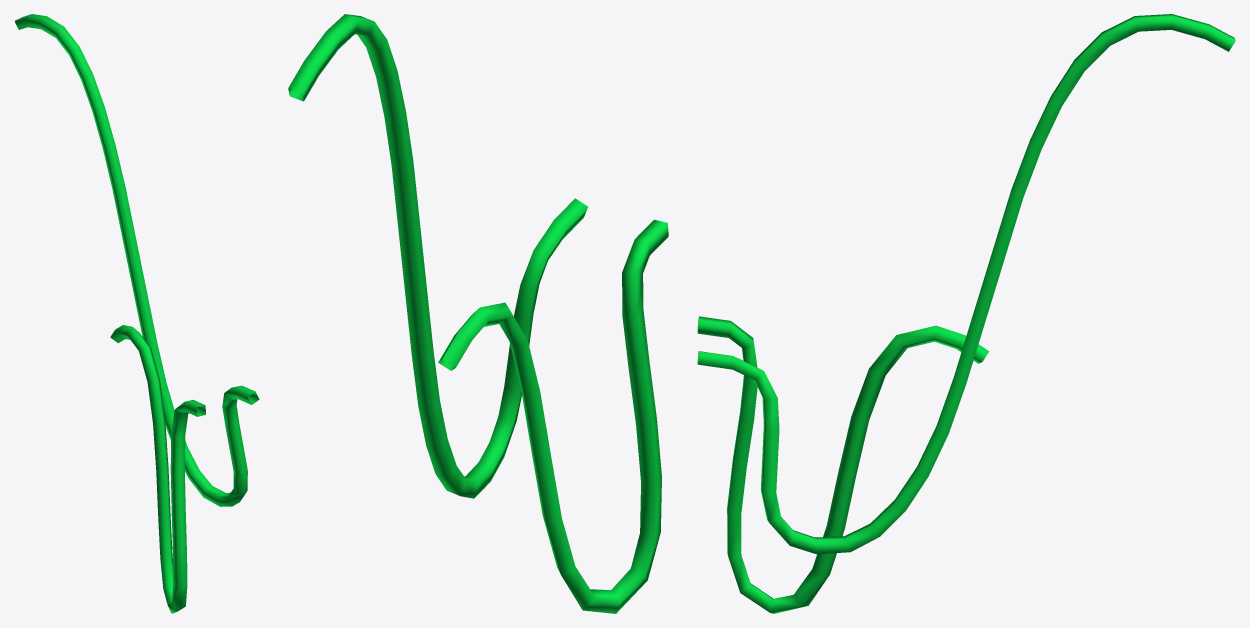
File: Earthmover_Body_WireTubeBack_01a_snaps005.fbx
The picture shows the model from 3 angles, left to right: view 1: azimuth 30°, elevation 25°; view 2: azimuth 150°, elevation 25°; view 3: azimuth 270°, elevation 25°; orthographic projection. The views are drawn at different scales.
Parts seen in each view (by area): view 1: Earthmover_Body_11a_snaps005; view 2: Earthmover_Body_11a_snaps005; view 3: Earthmover_Body_11a_snaps005.
Part boxes in pixels (box(x1,y1,x2,y2)): Earthmover_Body_11a_snaps005: box(14, 14, 259, 613); Earthmover_Body_11a_snaps005: box(288, 14, 668, 613); Earthmover_Body_11a_snaps005: box(697, 14, 1235, 613).
Size of the model in its own units: 25.11 by 132 by 105.
